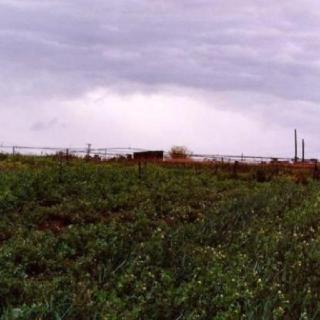Stratocumulus: (0, 0, 320, 134)
